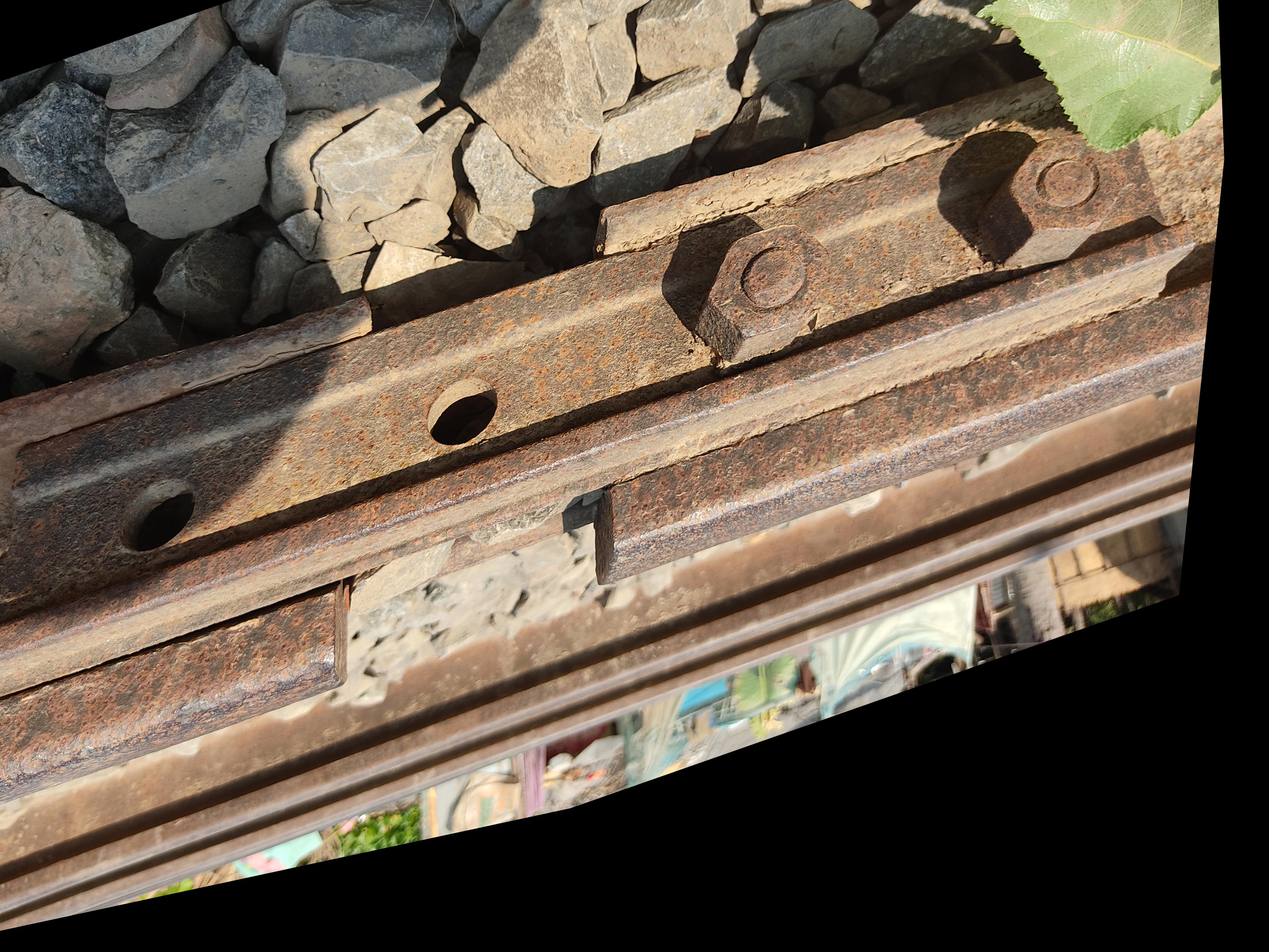person: (134, 712, 358, 901), (160, 588, 328, 715)
